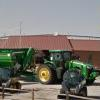Tractor: (29, 44, 96, 94)
